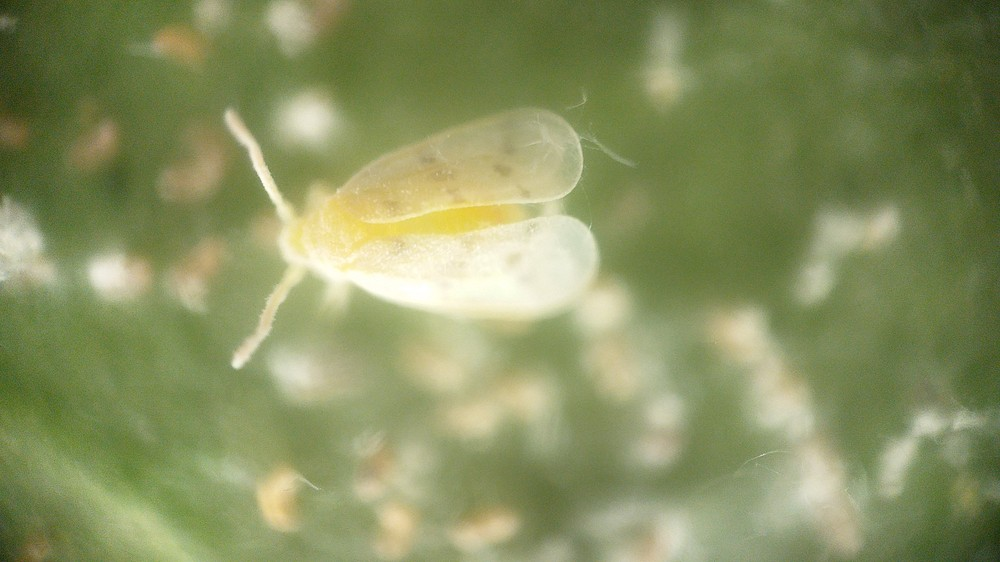Mosca Blanca: (209, 75, 619, 390)
